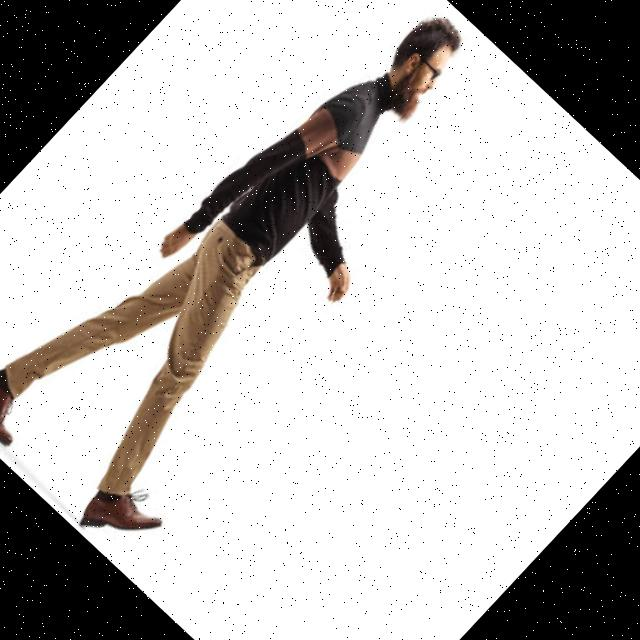Person: (0, 0, 545, 565)
